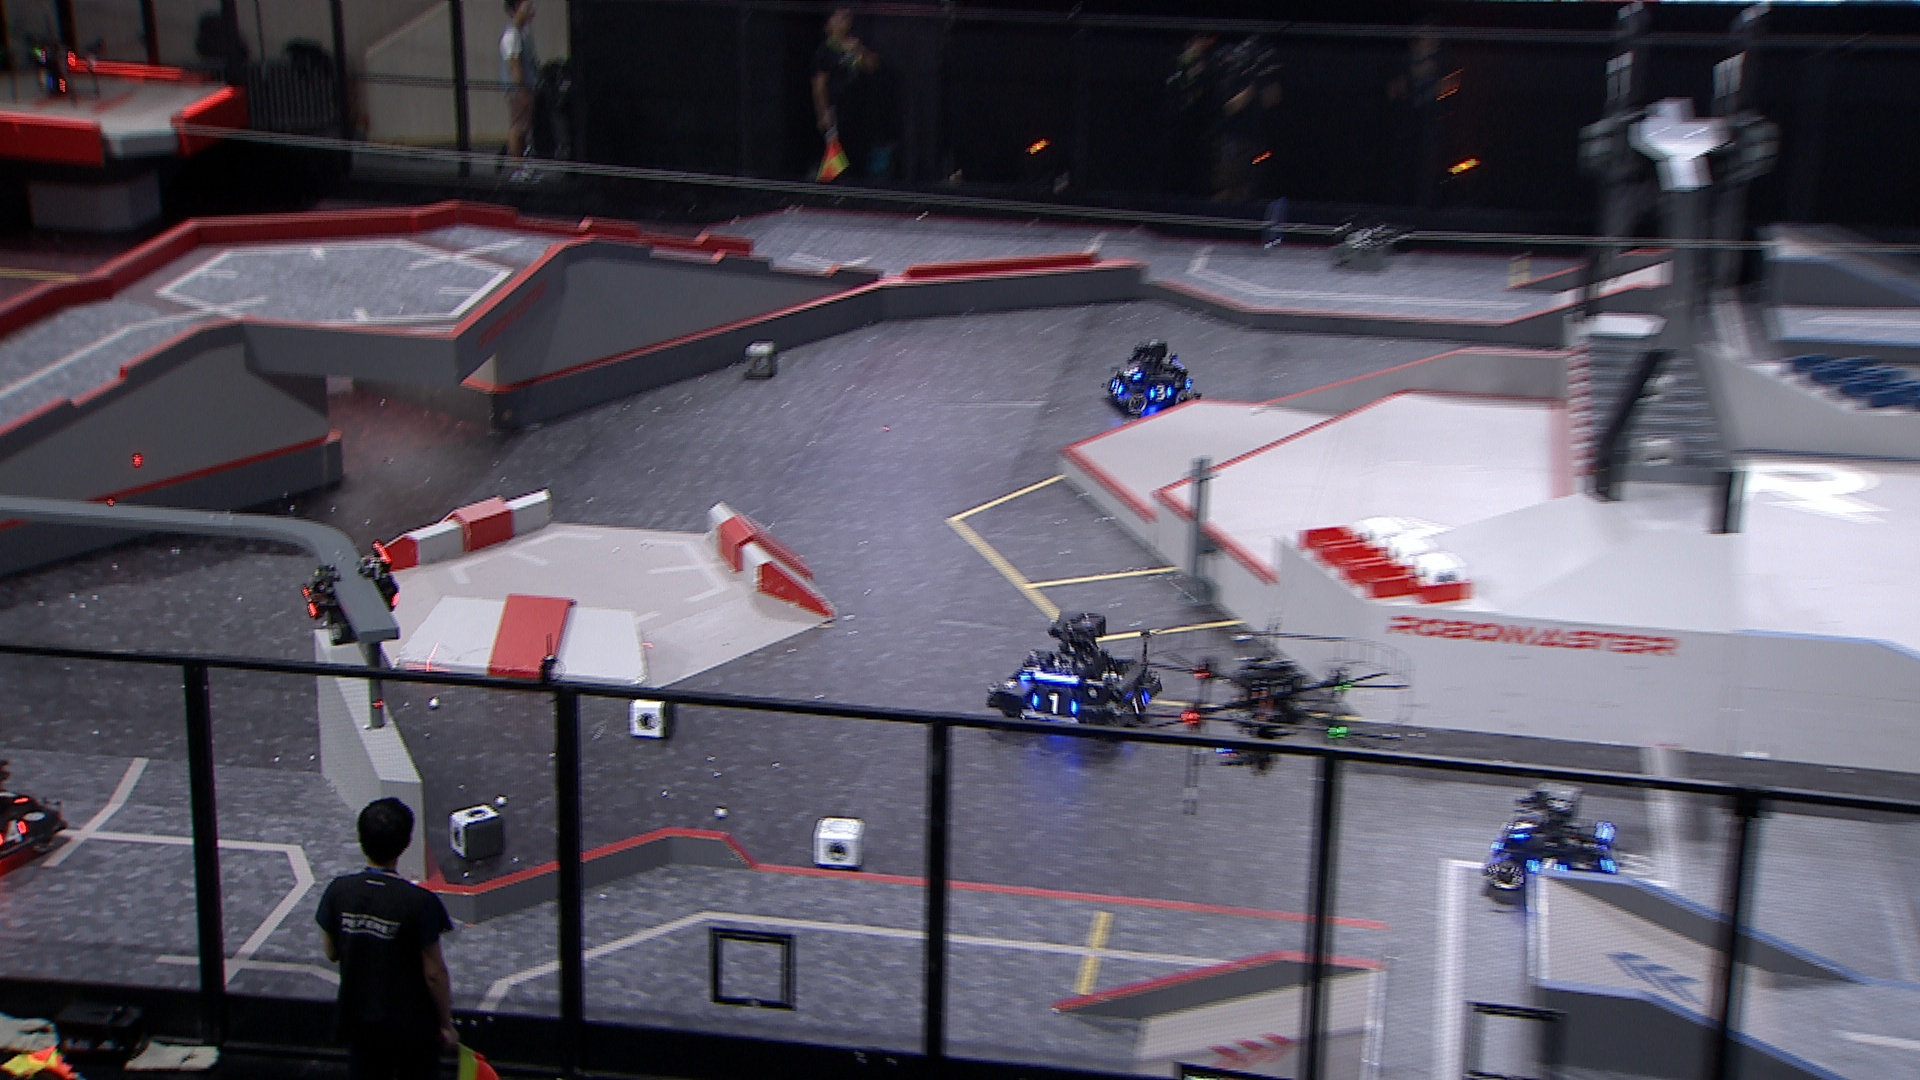armor: (1026, 690, 1077, 716), (1527, 856, 1572, 877), (1509, 816, 1536, 840), (1015, 661, 1044, 683), (1106, 376, 1127, 398), (1145, 384, 1174, 400), (1129, 694, 1149, 713), (1122, 365, 1143, 380)
car: (986, 604, 1168, 744), (1480, 782, 1623, 899), (1098, 338, 1205, 413)
watcher: (299, 541, 401, 645)
